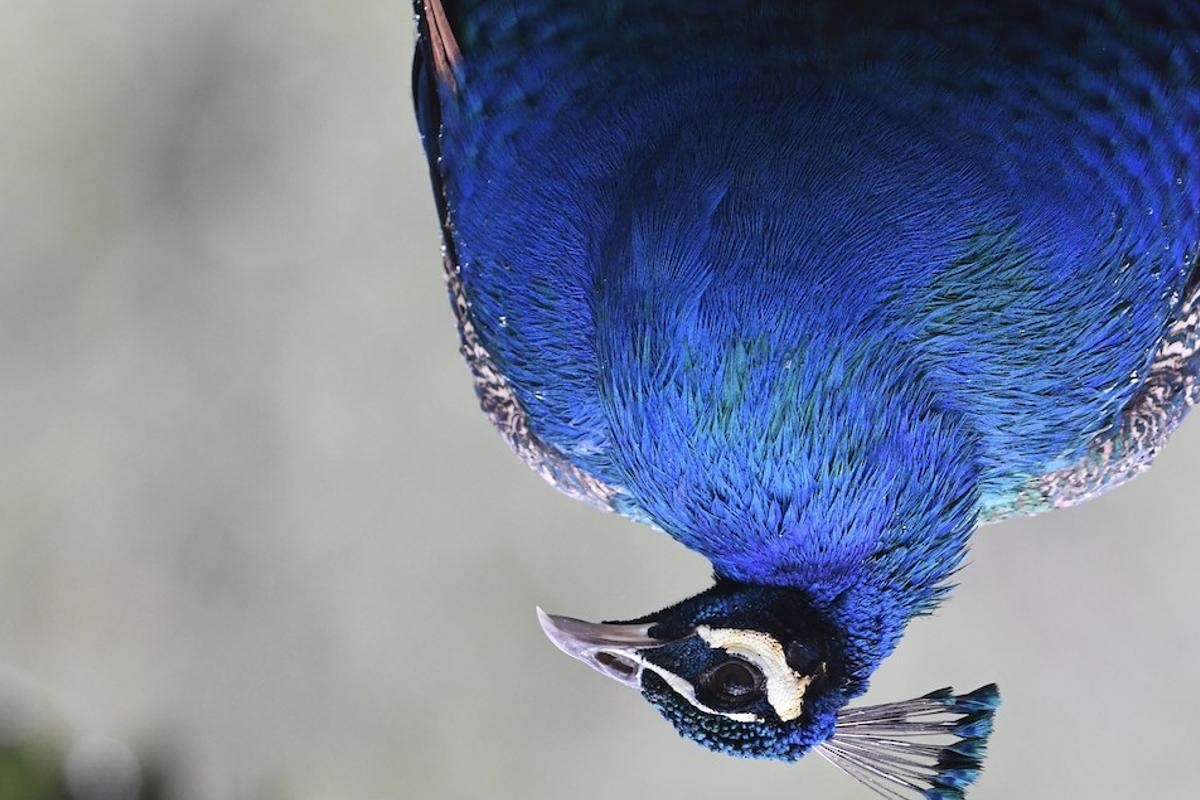peacock: (370, 18, 1200, 800)
